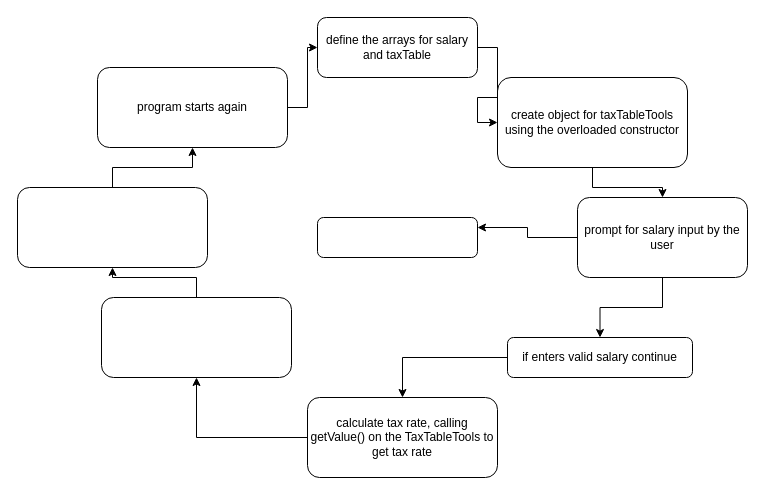
Image size: 765x495. Some labels were removed from this diagram. Here are the shapes that lost their labels. From the top down, the box of each, then its label:
(16, 186, 208, 268): display results, outputting the salary, tax rate, and tax amount to the user
(316, 216, 478, 258): if user enters -1, program exits
(100, 296, 292, 378): calculate tax amount, multiply salary by tac rate to get tax amount
